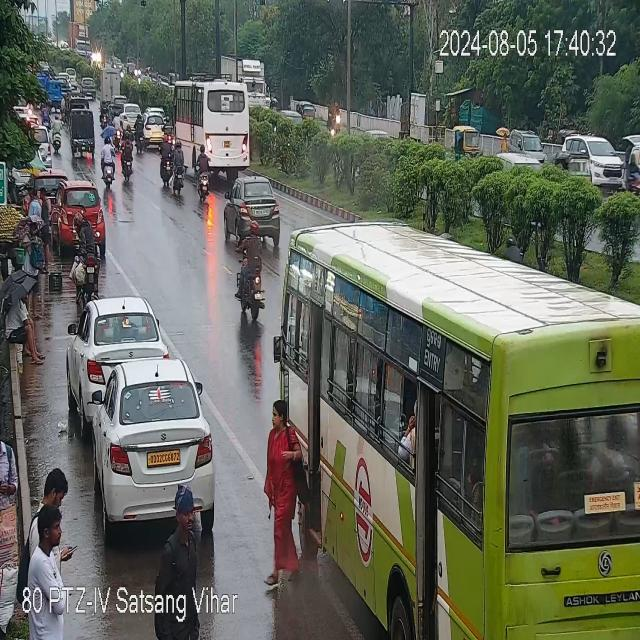2-wheelers: (231, 246, 262, 322), (192, 149, 214, 195), (120, 130, 138, 180), (171, 150, 188, 199), (98, 138, 115, 186), (326, 100, 344, 136), (52, 109, 64, 162), (100, 98, 110, 132)
auto: (68, 100, 96, 156), (451, 123, 484, 165), (140, 112, 168, 146), (299, 94, 317, 124), (126, 61, 136, 76)
bus: (284, 226, 640, 637), (171, 78, 258, 174)
car: (80, 359, 219, 526), (75, 297, 164, 397), (554, 126, 631, 186), (223, 178, 281, 239), (57, 180, 105, 240), (514, 125, 548, 168), (124, 102, 141, 126), (82, 74, 97, 98), (65, 68, 77, 86)
pedestrian: (264, 399, 306, 539), (23, 505, 77, 599), (172, 482, 210, 592), (0, 426, 19, 639), (5, 280, 47, 362), (28, 186, 56, 264), (40, 464, 68, 506), (497, 125, 510, 154)
truck: (220, 53, 271, 109), (69, 18, 92, 60), (98, 66, 121, 105)
